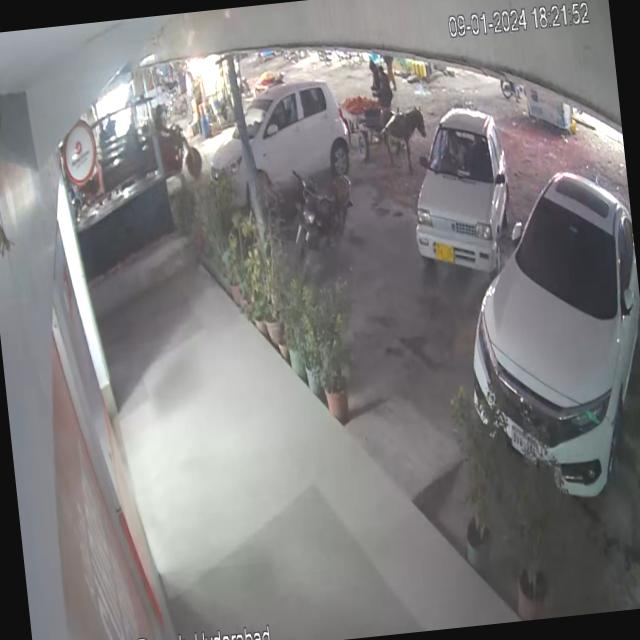Car: (444, 119, 640, 520), (404, 80, 523, 304), (180, 62, 358, 200)
Motorcycle: (284, 153, 360, 269)
